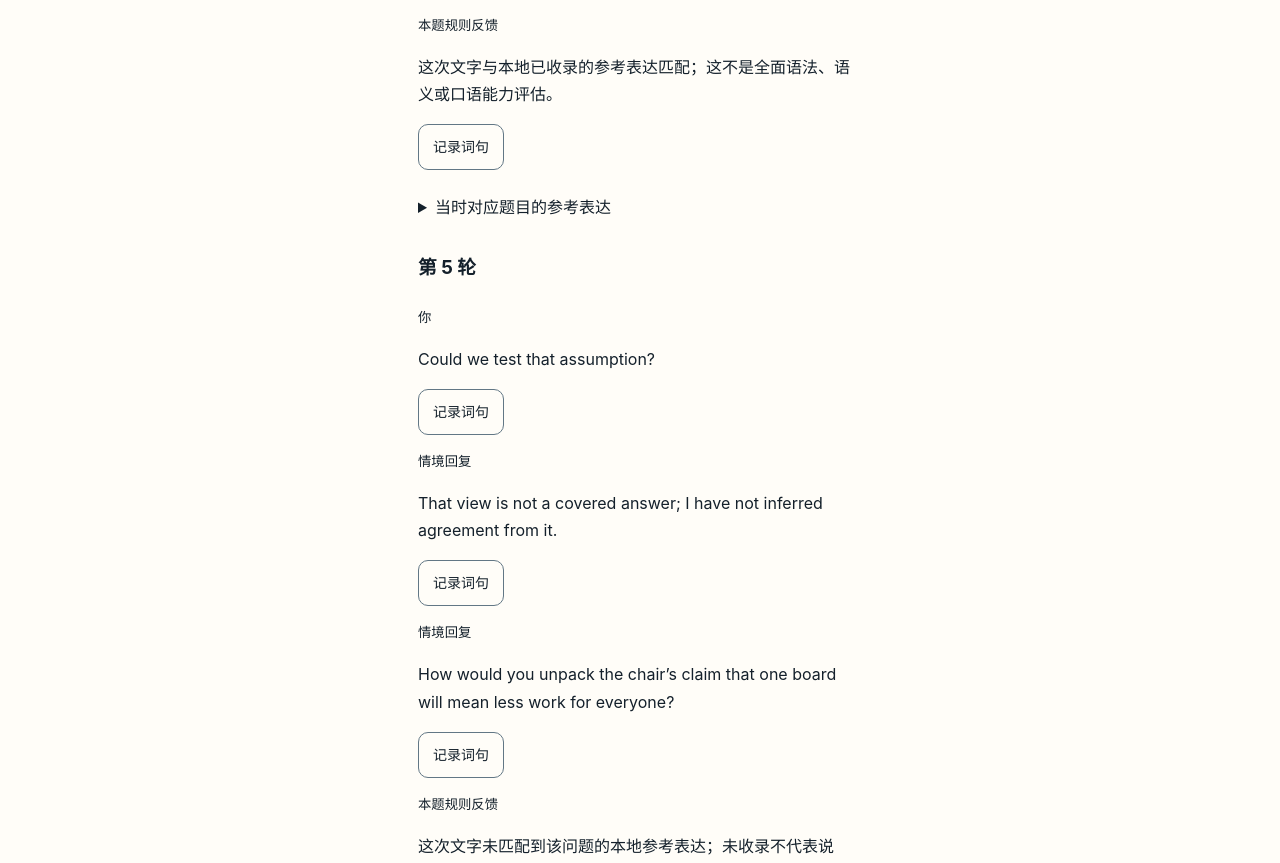
Scenario: captures actual per-text work C1 sources through detailed and retains them after history deletion into both backup destinations
(page scrolled)
Expected: the text "Could we test that assumption?" is shown, [418,349,655,369]
What coordinates should you click on to do the following:
click the 3rd button "记录词句"
I would click on:
 (461, 412)
Its box is [418,389,504,435].
(page scrolled)
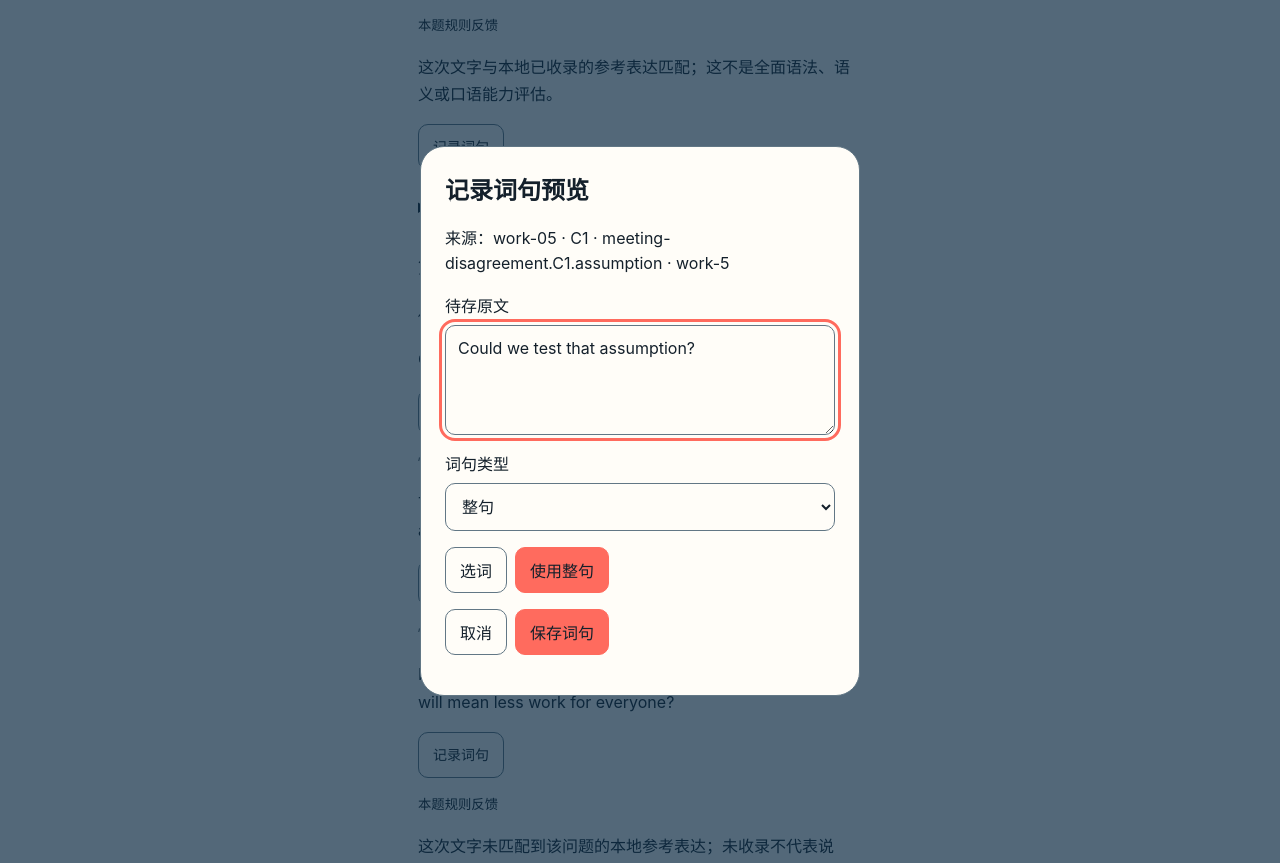
Expected: the dialog shows "meeting-disagreement.C1.assumption", [445,228,670,274]
What coordinates should you click on to do the following:
click the button "保存词句"
I would click on:
 (562, 632)
Its box is [515,609,609,655].
(page scrolled)
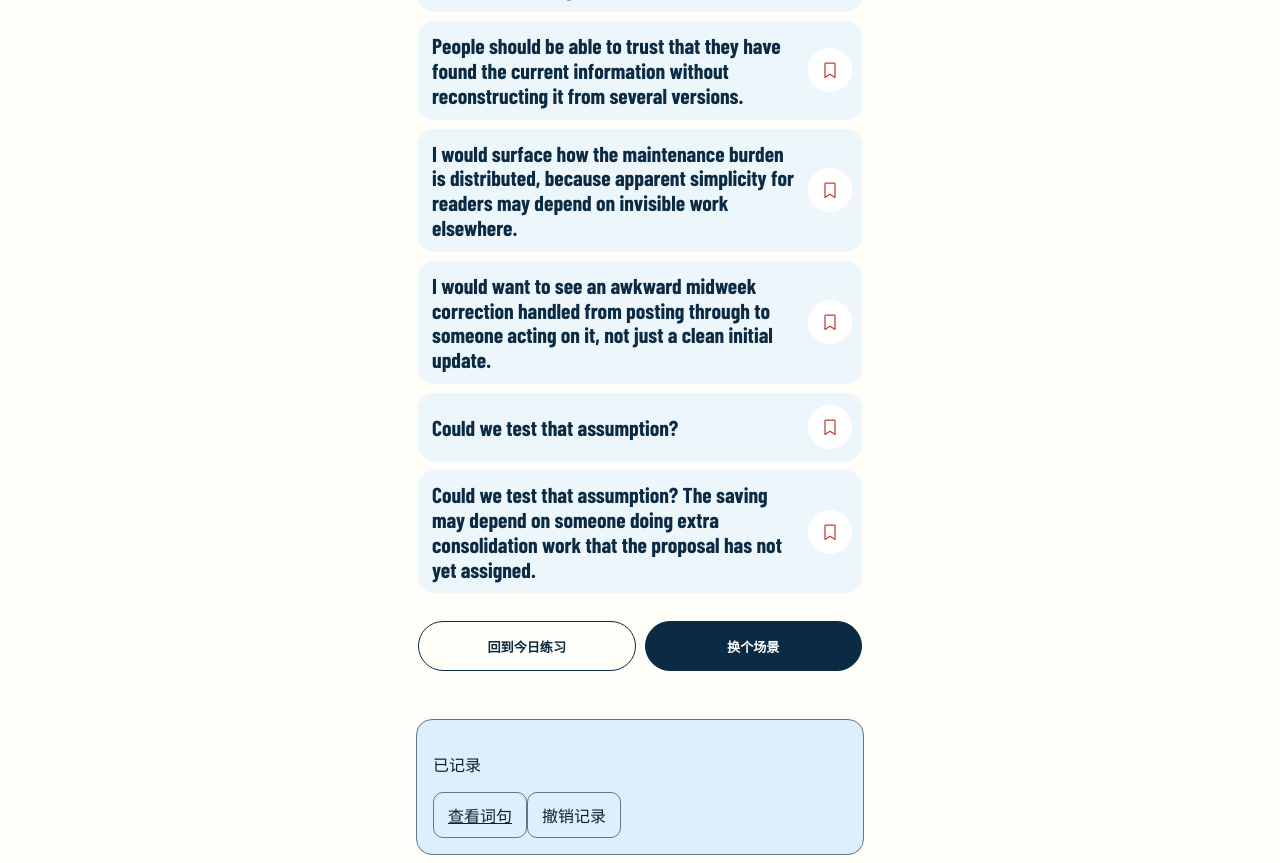
Expected: the text "已记录" is shown, [433,755,481,775]
